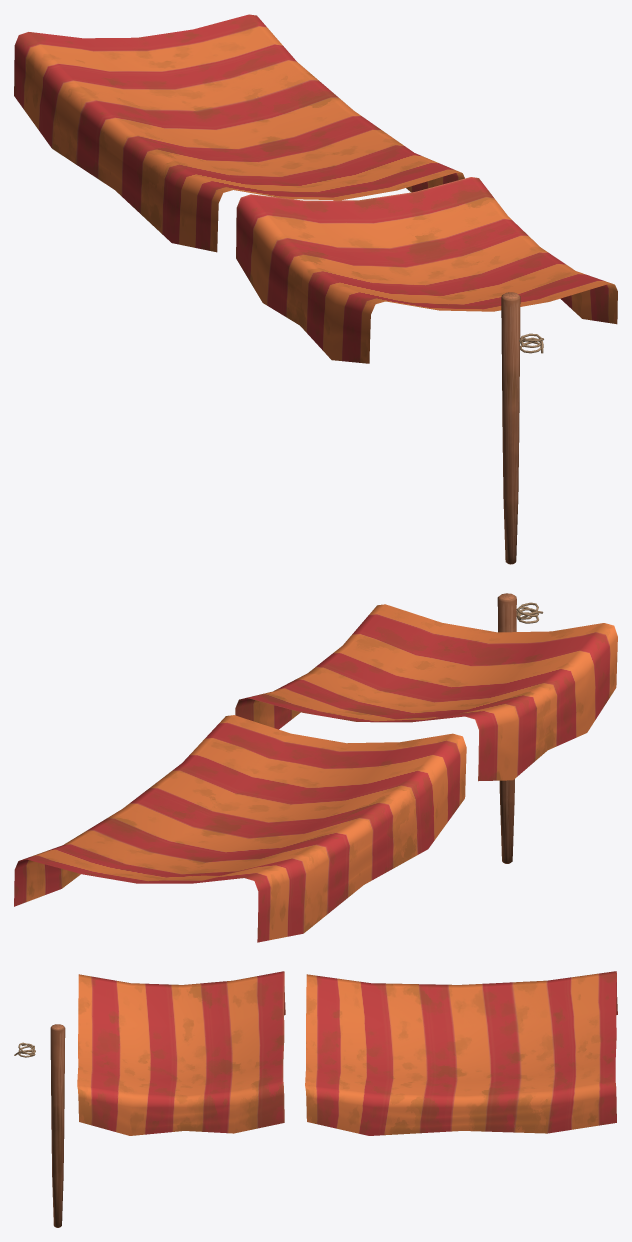
Rendered from tent_parts.fbx.
3 renders of one model, top to bottom at view 1: azimuth 30°, elevation 25°; view 2: azimuth 150°, elevation 25°; view 3: azimuth 270°, elevation 25°, orthographic. The views are drawn at different scales.
Parts seen in each view (by area): view 1: cloth_2, cloth_1, pole; view 2: cloth_2, cloth_1, pole; view 3: cloth_2, cloth_1, pole.
Boxes of the visible parts, x1,y1,x2,y2 form: cloth_2: [14, 14, 464, 252]; cloth_1: [236, 177, 617, 363]; pole: [501, 292, 520, 564]; cloth_2: [14, 715, 466, 942]; cloth_1: [235, 604, 617, 781]; pole: [497, 593, 516, 863]; cloth_2: [305, 971, 617, 1135]; cloth_1: [77, 971, 285, 1135]; pole: [50, 1024, 65, 1227].
Size of the model in its own units: 3.01 by 3.24 by 8.33.
